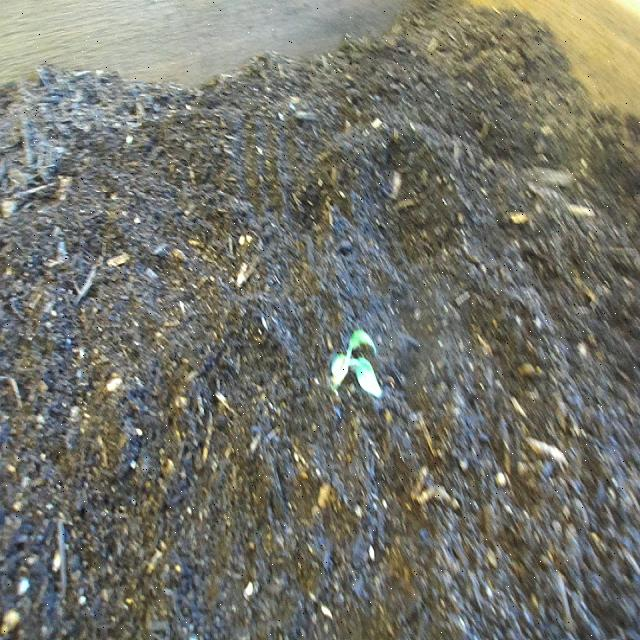Unhealthy: (324, 312, 390, 419)
